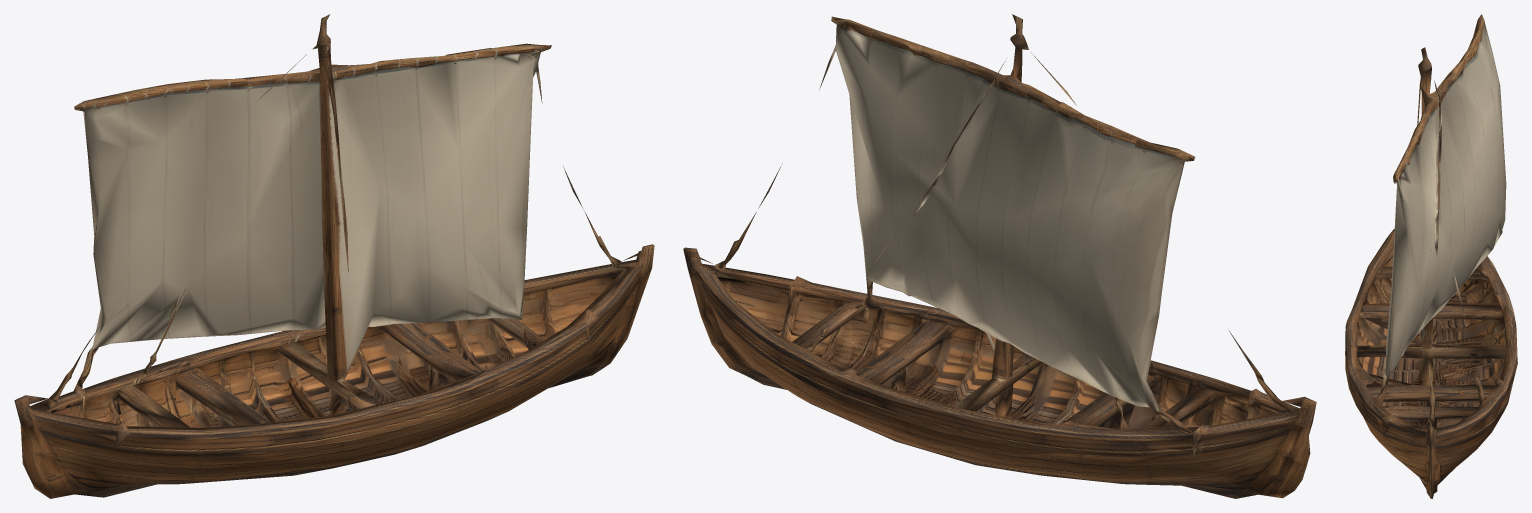
The model's file is boat.glb.
3 renders of one model, left to right at view 1: azimuth 30°, elevation 25°; view 2: azimuth 150°, elevation 25°; view 3: azimuth 270°, elevation 25°, orthographic. The views are drawn at different scales.
Parts seen in each view (by area): view 1: Mesh_0; view 2: Mesh_0; view 3: Mesh_0.
Part boxes in pixels (bbox=[...]): Mesh_0: bbox=[14, 14, 654, 498]; Mesh_0: bbox=[683, 14, 1316, 498]; Mesh_0: bbox=[1345, 14, 1517, 498].
Bounding box in the file's own units: 1.91 × 1.24 × 0.5564.
1 material, 1 textured.
